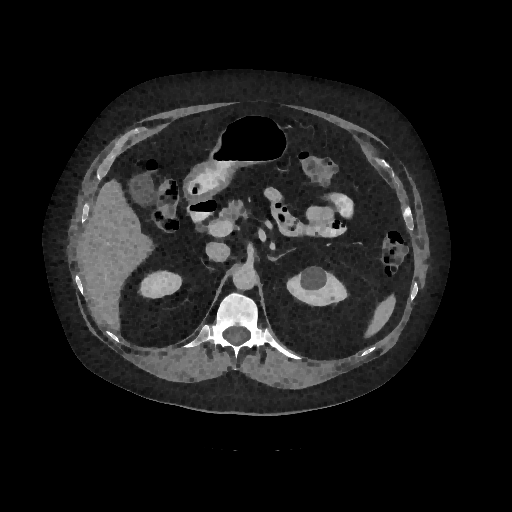Lesion: (296, 261, 329, 292)
